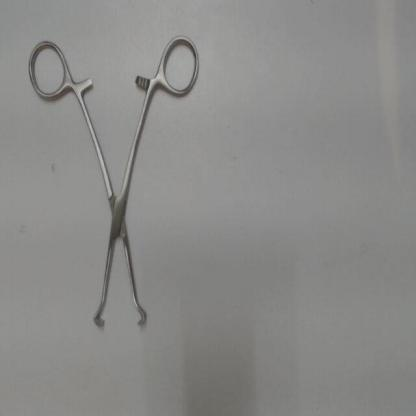Babcock Tissue Forceps: (26, 34, 206, 334)
